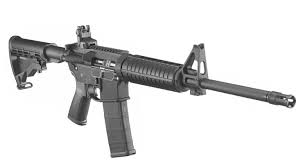gun: (7, 25, 297, 157)
